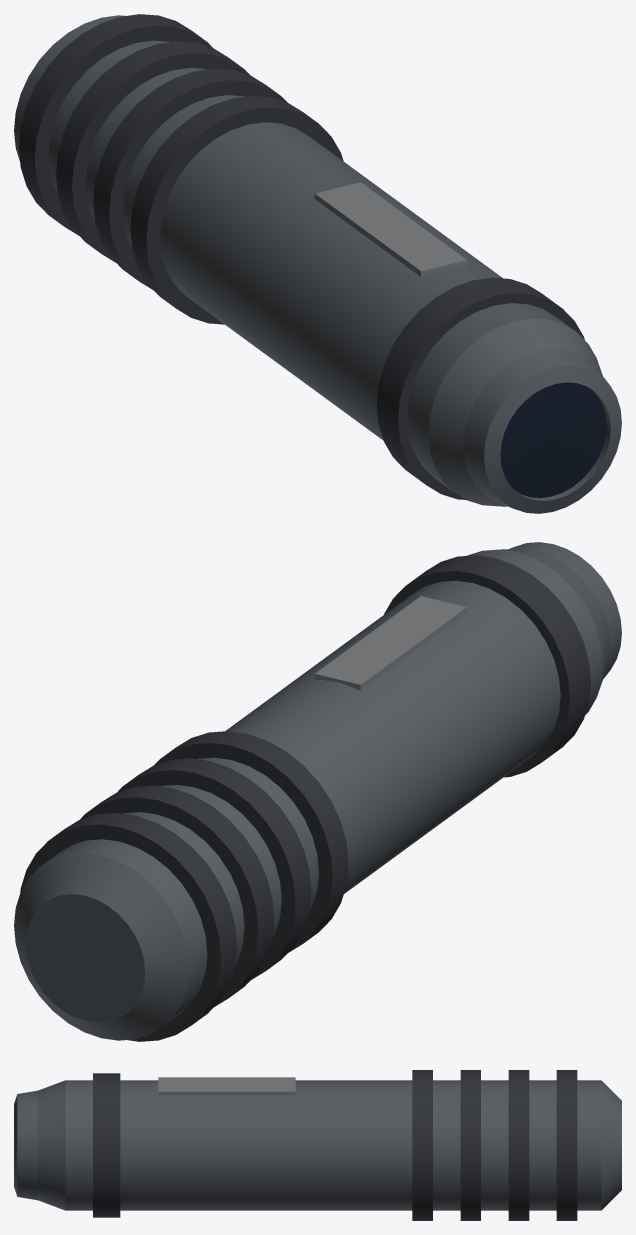
File: pd1_emitter.obj
3 views of the same model, one above another, from view 1: azimuth 30°, elevation 25°; view 2: azimuth 150°, elevation 25°; view 3: azimuth 270°, elevation 25° (orthographic). The views are drawn at different scales.
Parts seen in each view (by area): view 1: pd1_emitter; view 2: pd1_emitter; view 3: pd1_emitter.
Boxes of the visible parts, x1,y1,x2,y2 form: pd1_emitter: (14,14,621,513); pd1_emitter: (14,542,621,1041); pd1_emitter: (14,1070,621,1220).
Bounding box in the file's own units: 0.44 × 0.44 × 1.77.
